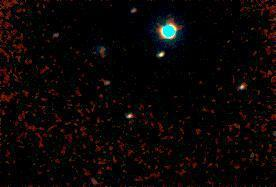star: (152, 10, 182, 40)
